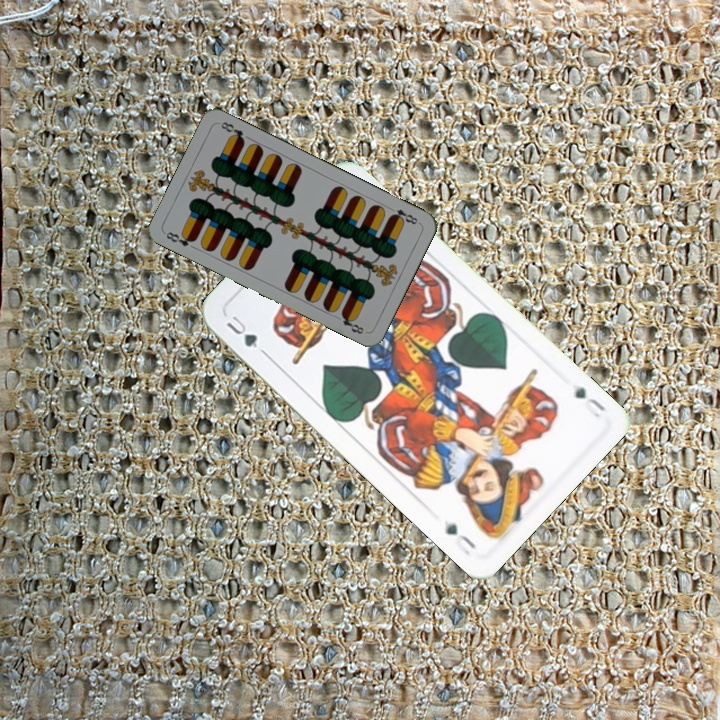E8: (385, 202, 422, 227), (162, 227, 198, 249)
GU: (222, 310, 260, 351), (570, 383, 609, 421)
